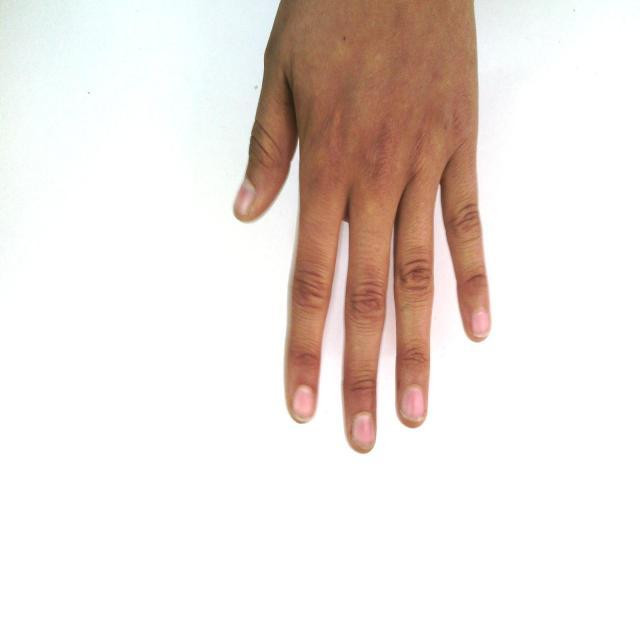Fingernail: (402, 387, 424, 422), (293, 386, 314, 421), (353, 412, 373, 446), (235, 181, 254, 215), (472, 310, 489, 336)
